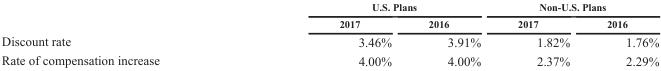table: (0, 1, 658, 68)
table column: (0, 1, 248, 68), (248, 1, 409, 68), (409, 1, 498, 68), (498, 1, 587, 68), (587, 1, 658, 68)
table column header: (0, 1, 658, 31)
table row: (0, 31, 658, 50), (0, 50, 658, 68), (0, 15, 658, 31), (0, 1, 658, 15)
table spanning cell: (248, 1, 498, 15), (498, 1, 658, 15)
